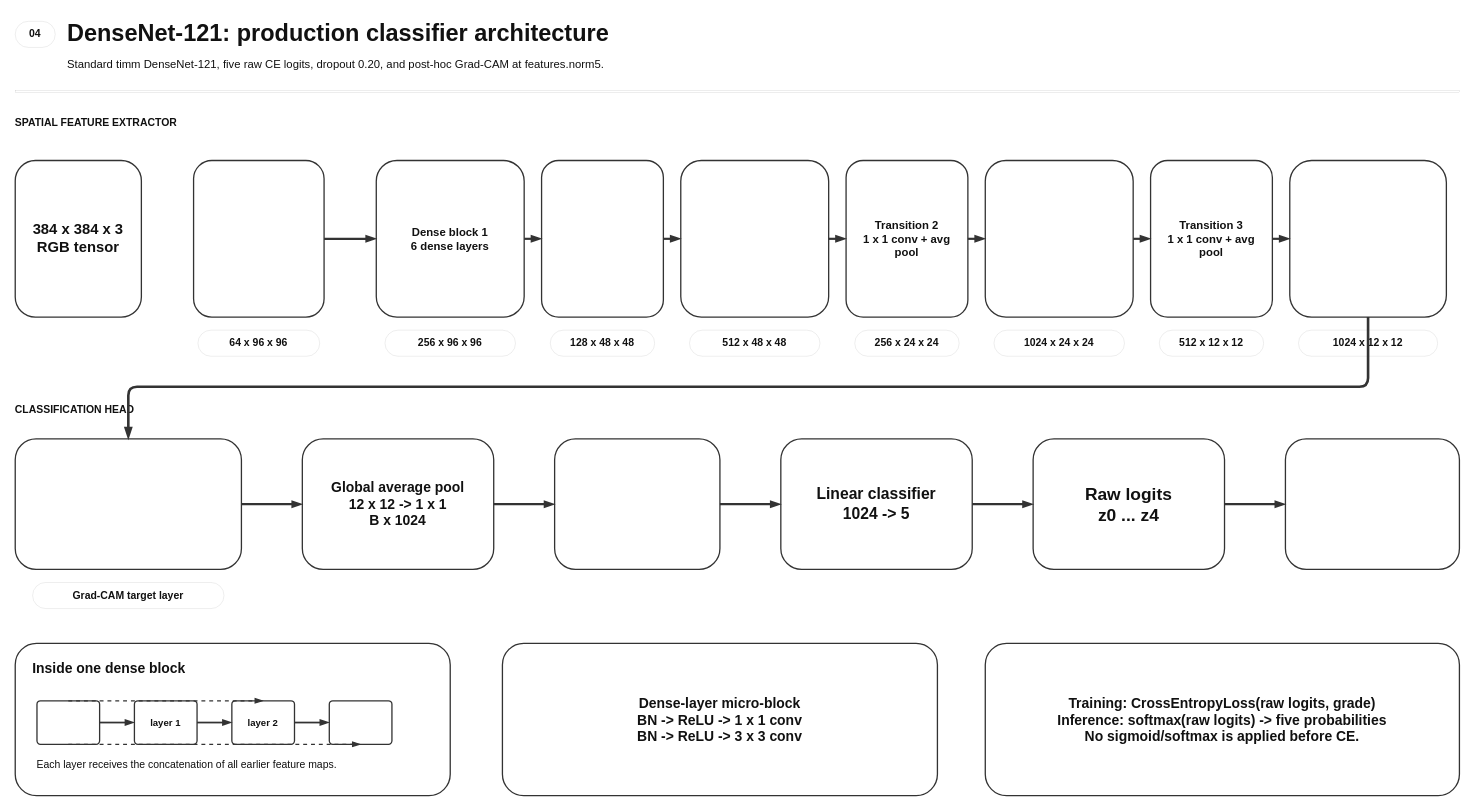
This 1476x811 diagram has some shape labels left out. The centre of each missing label's shape, as x and y in pixels:
7 x 7 conv, s2 BN + ReLU 3 x 3 max pool, s2: point (258, 238)
Dense block 2 12 dense layers: point (754, 238)
Dense block 3 24 dense layers: point (1058, 238)
Dense block 4 16 dense layers: point (1368, 238)
Dropout p = 0.20: point (637, 504)
features.norm5 BN -> ReLU B x 1024 x 12 x 12: point (128, 504)
layer 0: point (68, 722)
layer 3: point (360, 722)
Softmax P(KL = 0...4): point (1372, 504)
Transition 1 1 x 1 conv + avg pool: point (602, 238)
